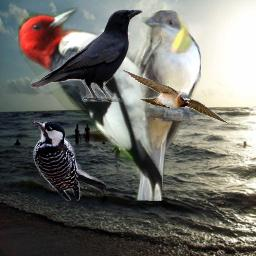Crow: (30, 9, 143, 102)
Cuckoo: (131, 10, 201, 201)
Swallow: (120, 67, 230, 124)
Woodpecker: (18, 7, 162, 201), (30, 118, 108, 201)
